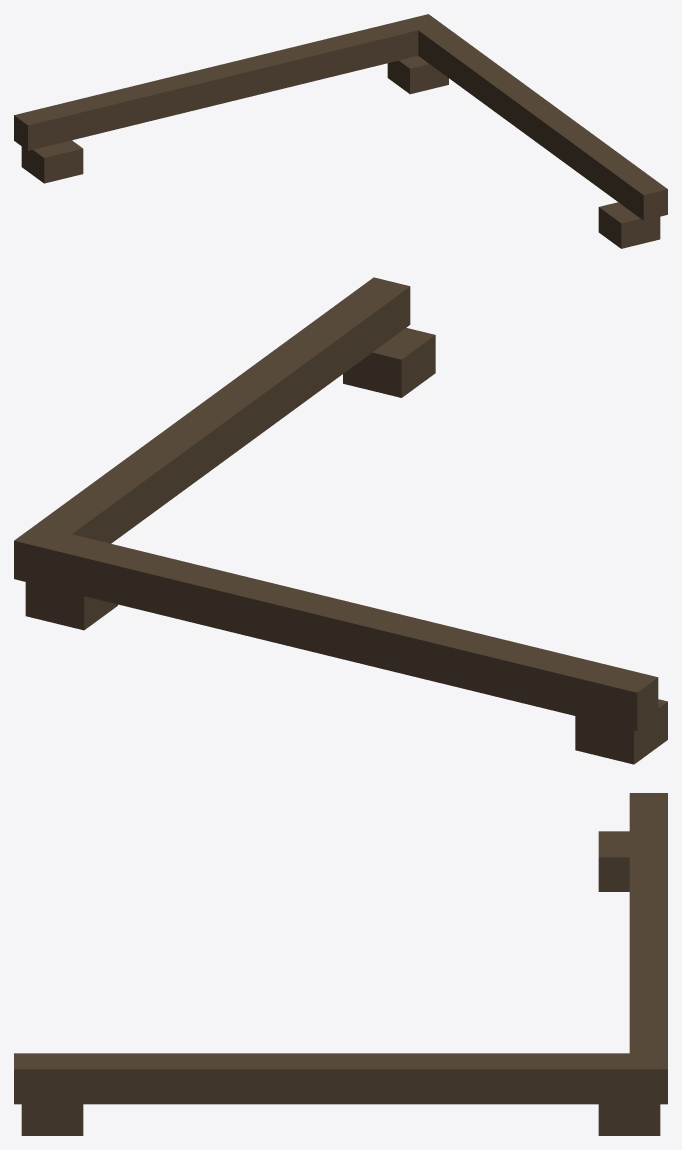
File: SM_foundWood_01_corner.glb
The picture shows the model from 3 angles, top to bottom: view 1: azimuth 30°, elevation 25°; view 2: azimuth 150°, elevation 25°; view 3: azimuth 270°, elevation 25°; orthographic projection. The views are drawn at different scales.
Parts seen in each view (by area): view 1: SM_foundWood_01_corner; view 2: SM_foundWood_01_corner; view 3: SM_foundWood_01_corner.
Boxes of the visible parts, left/top/right/bottom form: SM_foundWood_01_corner: left=14, top=14, right=667, bottom=248; SM_foundWood_01_corner: left=14, top=277, right=667, bottom=764; SM_foundWood_01_corner: left=14, top=793, right=667, bottom=1135.
Bounding box in the file's own units: 4.25 × 0.5 × 4.25.
Materials: 1 (1 with a texture image).
